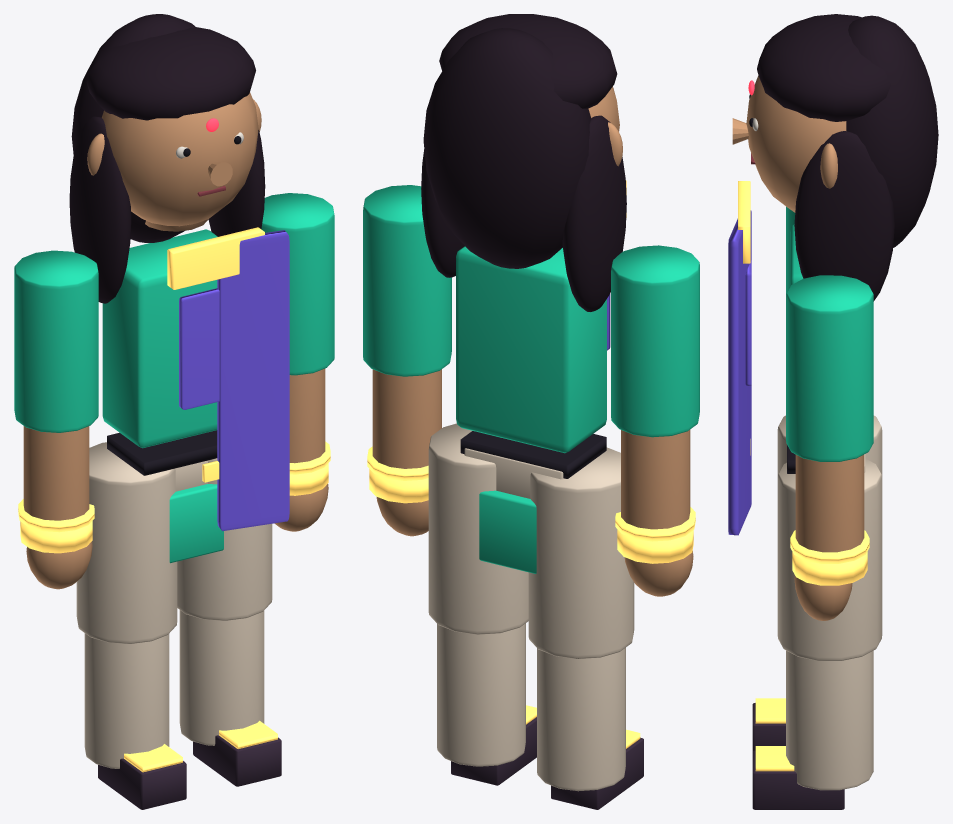
Rendered from char_meera.glb.
3 renders of one model, left to right at view 1: azimuth 30°, elevation 25°; view 2: azimuth 150°, elevation 25°; view 3: azimuth 270°, elevation 25°, orthographic. The views are drawn at different scales.
Visible parts, largest first — view 1: Meera_Dupatta, Meera_Thigh_L, Meera_Torso, Meera_Sleeve_L, Meera_Face, Meera_Hair_Top, Meera_Shin_R, Meera_Shin_L, Meera_Sleeve_R, Meera_Hair_Side_L, Meera_Thigh_R, Meera_Forearm_L (+18 smaller); view 2: Meera_Hair_Back, Meera_Torso, Meera_Thigh_L, Meera_Sleeve_L, Meera_Sleeve_R, Meera_Thigh_R, Meera_Shin_R, Meera_Shin_L, Meera_Hair_Side_L, Meera_Hair_Top, Meera_Forearm_L, Meera_Forearm_R (+13 smaller); view 3: Meera_Sleeve_R, Meera_Hair_Back, Meera_Hair_Side_R, Meera_Shin_R, Meera_Thigh_R, Meera_Hair_Top, Meera_Forearm_R, Meera_Dupatta, Meera_Face, Meera_Shoe_R, Meera_Hand_R, Meera_Wrist_R (+10 smaller).
Part boxes in pixels (x1,y1,x2,y2): Meera_Dupatta: [217, 230, 289, 531]; Meera_Thigh_L: [76, 442, 177, 643]; Meera_Torso: [102, 229, 217, 448]; Meera_Sleeve_L: [14, 250, 98, 432]; Meera_Face: [101, 92, 258, 226]; Meera_Hair_Top: [86, 27, 255, 120]; Meera_Shin_R: [179, 610, 264, 745]; Meera_Shin_L: [84, 633, 169, 768]; Meera_Sleeve_R: [261, 193, 334, 375]; Meera_Hair_Side_L: [69, 116, 131, 303]; Meera_Thigh_R: [177, 458, 272, 620]; Meera_Forearm_L: [23, 426, 89, 520]; Meera_Hair_Back: [423, 28, 591, 268]; Meera_Torso: [456, 246, 606, 453]; Meera_Thigh_L: [528, 447, 634, 658]; Meera_Sleeve_L: [611, 245, 699, 437]; Meera_Sleeve_R: [363, 185, 451, 376]; Meera_Thigh_R: [428, 423, 528, 634]; Meera_Shin_R: [437, 623, 525, 766]; Meera_Shin_L: [537, 647, 625, 791]; Meera_Hair_Side_L: [562, 115, 626, 311]; Meera_Hair_Top: [439, 14, 617, 108]; Meera_Forearm_L: [621, 430, 690, 529]; Meera_Forearm_R: [372, 369, 441, 468]; Meera_Sleeve_R: [786, 275, 873, 461]; Meera_Hair_Back: [846, 15, 938, 247]; Meera_Hair_Side_R: [794, 131, 894, 301]; Meera_Shin_R: [786, 650, 873, 790]; Meera_Thigh_R: [777, 458, 882, 660]; Meera_Hair_Top: [757, 14, 890, 121]; Meera_Forearm_R: [795, 454, 864, 552]; Meera_Dupatta: [728, 210, 751, 535]; Meera_Face: [746, 75, 846, 212]; Meera_Shoe_R: [752, 750, 844, 809]; Meera_Hand_R: [794, 575, 852, 620]; Meera_Wrist_R: [792, 552, 867, 585].
Size of the model in its own units: 0.8747 by 1.99 by 0.503.
